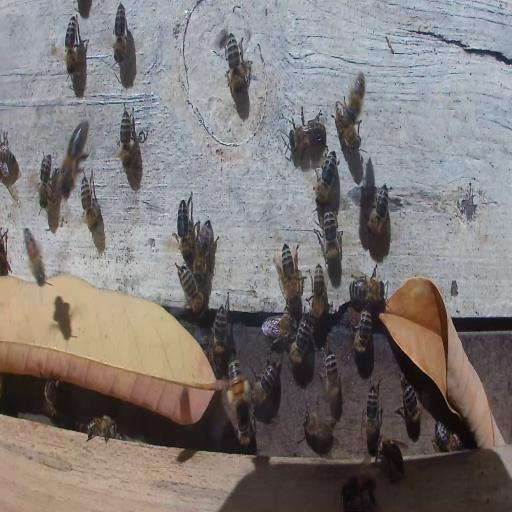bee: (58, 123, 88, 194), (225, 356, 252, 432), (276, 242, 304, 306), (21, 225, 48, 287), (224, 36, 249, 98), (289, 115, 324, 159), (176, 263, 205, 314), (80, 170, 102, 236), (333, 100, 360, 152), (368, 182, 391, 242), (303, 403, 333, 449), (340, 474, 378, 510), (175, 191, 195, 259), (314, 146, 337, 205), (399, 379, 421, 438), (193, 219, 215, 278), (346, 306, 373, 354), (319, 208, 341, 264), (350, 270, 385, 304), (379, 435, 404, 482), (288, 320, 312, 366), (321, 347, 340, 405), (212, 306, 229, 370), (81, 415, 118, 443), (250, 364, 276, 403), (119, 107, 135, 168), (364, 381, 380, 440), (38, 150, 53, 211), (347, 71, 365, 121), (433, 424, 462, 454), (261, 314, 294, 340), (64, 14, 78, 74), (113, 3, 127, 63), (310, 264, 324, 320), (1, 133, 17, 181), (44, 378, 58, 418), (1, 227, 10, 273)
